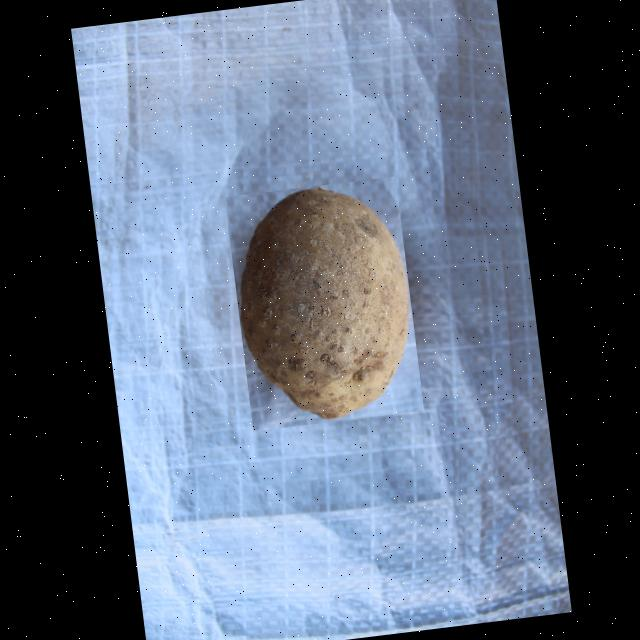Diseased-fungal potato: (223, 176, 422, 431)
